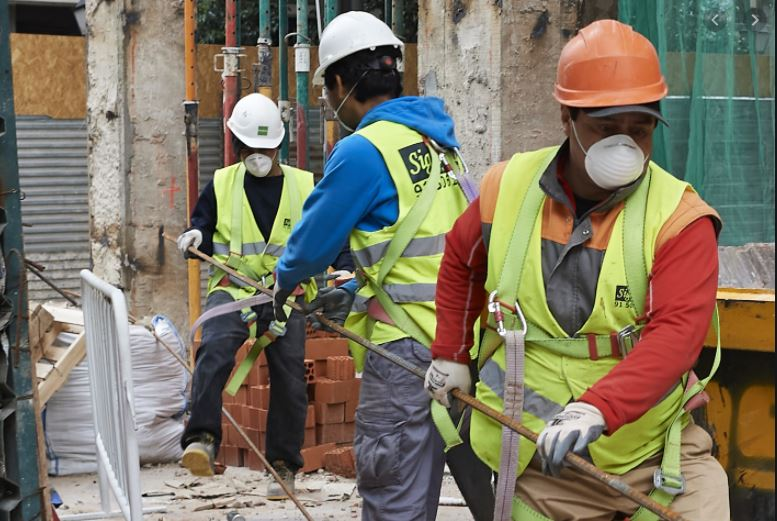Safety Helmet: (542, 8, 673, 188), (301, 7, 412, 140), (209, 80, 297, 185)
